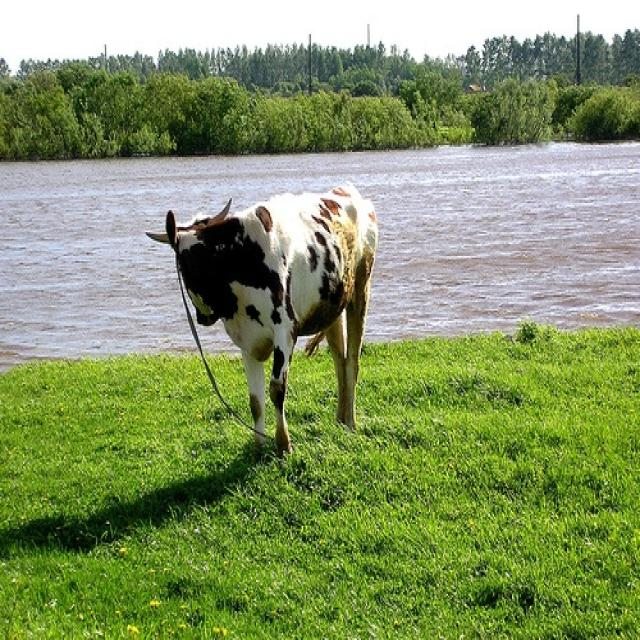cow: (144, 181, 378, 452)
